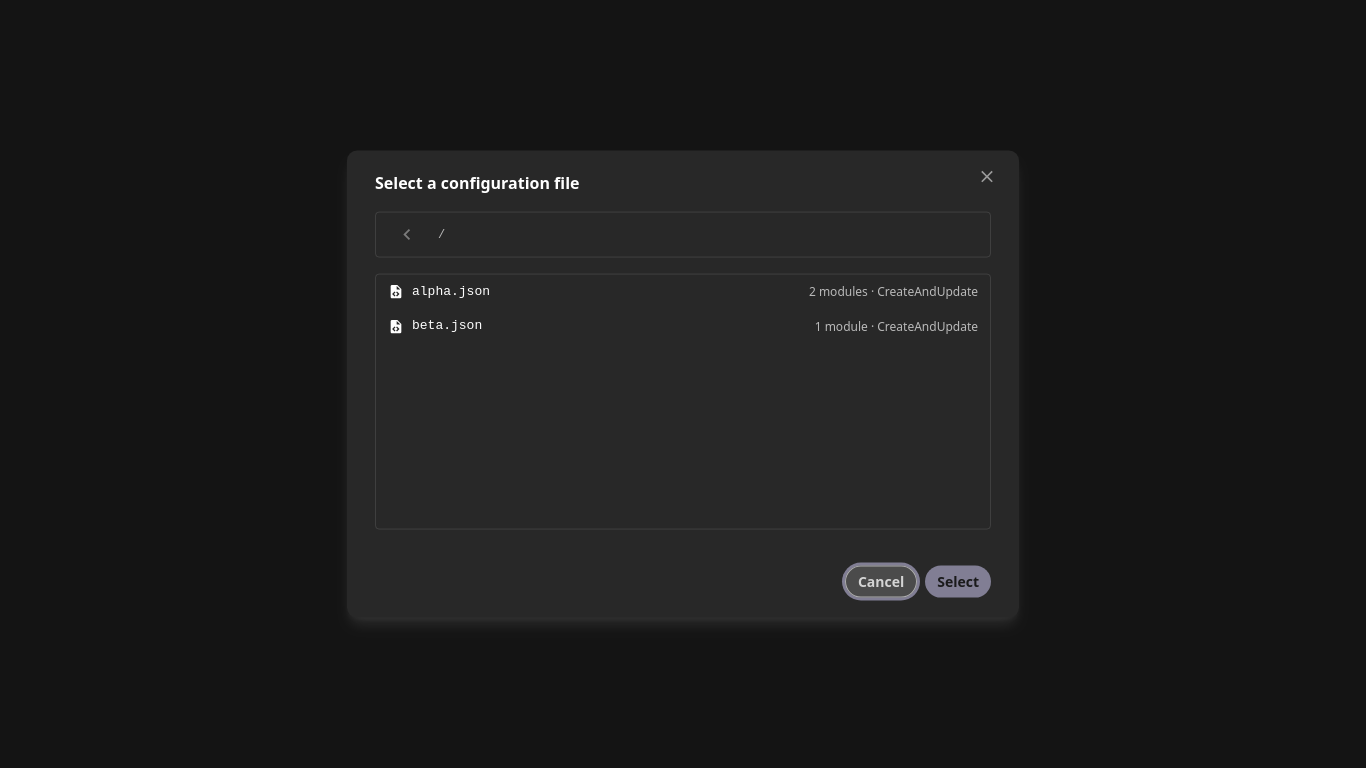
Test case: OpenProjectWizard › preserves user-edited project name when adding another layer
Step 1. Click the text "alpha.json" → coordinates (451, 291), box x1=412 y1=283 x2=490 y2=298
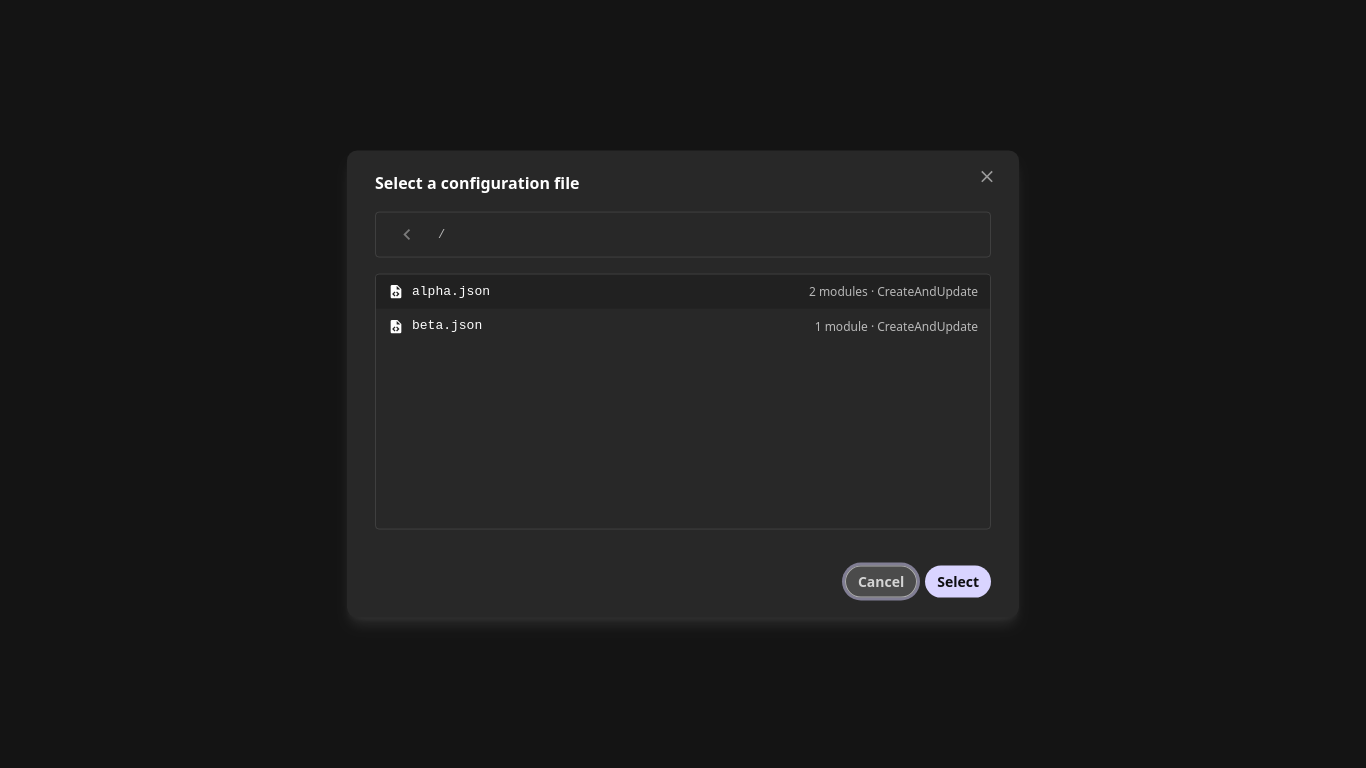
Step 2. Click the button "Select" → coordinates (958, 581), box x1=925 y1=565 x2=991 y2=597
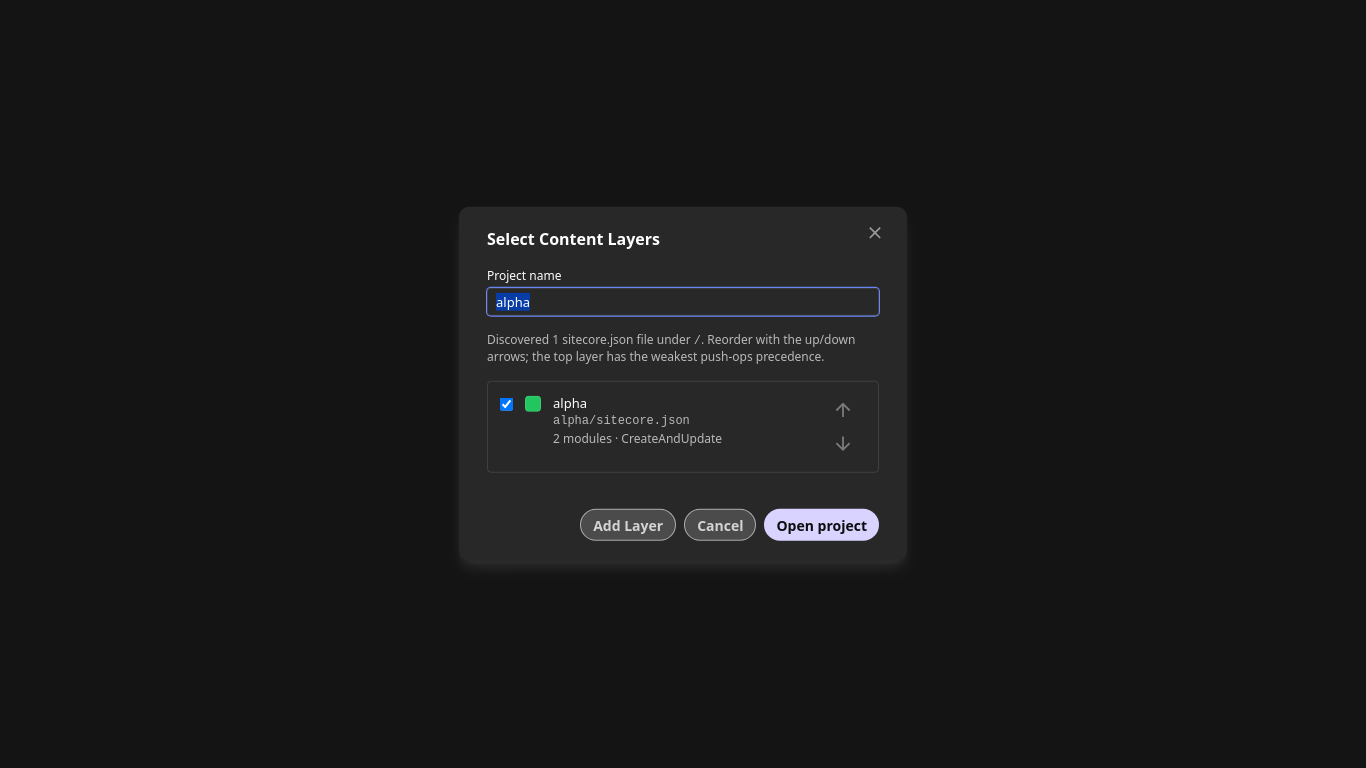
Expected: the field labelled "Project name" is shown
Step 3. Replace the text in the field labelled "Project name" with "my-project" → coordinates (683, 302), box x1=487 y1=288 x2=879 y2=316
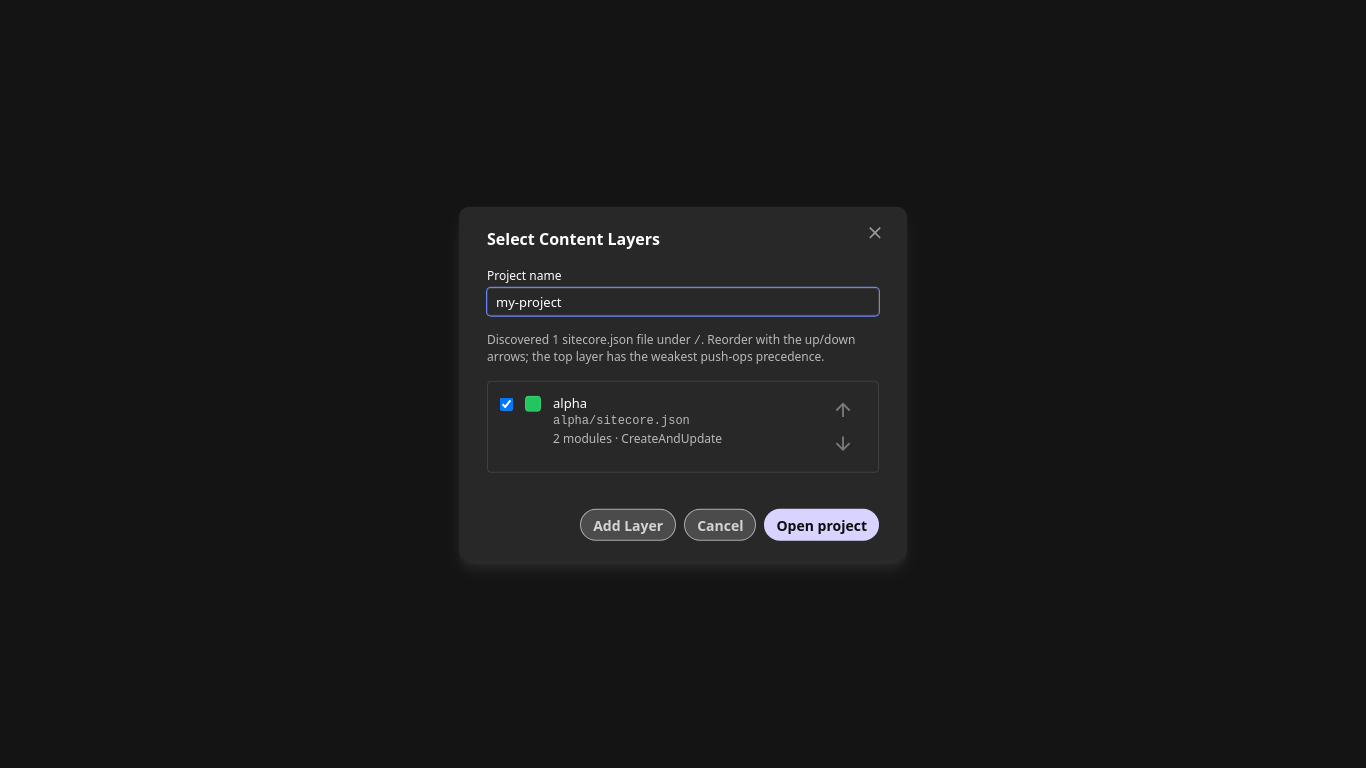
Step 4. Click the button "Add Layer" → coordinates (628, 525), box x1=580 y1=509 x2=676 y2=541
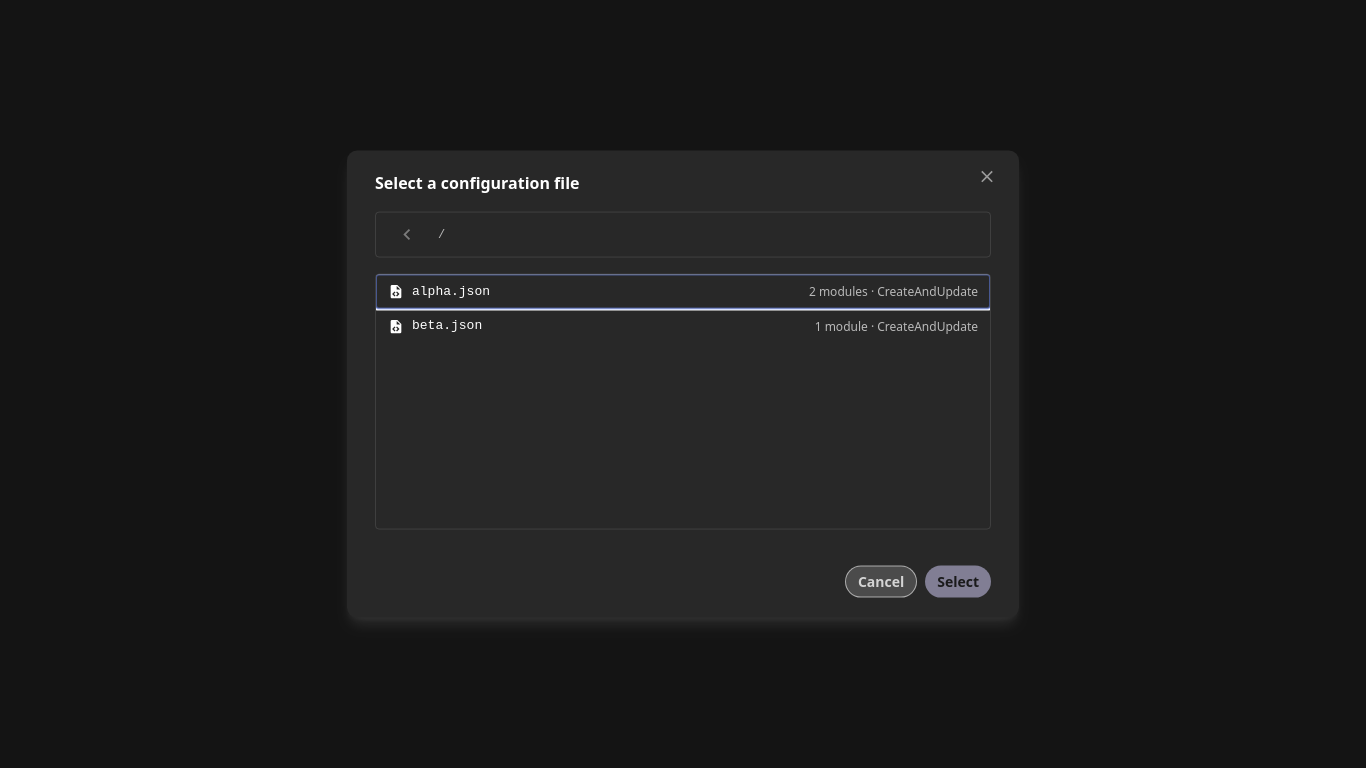
Expected: the text "/" is shown, x1=438 y1=226 x2=445 y2=242
Expected: the text "beta.json" is shown
Step 5. Click the text "beta.json" → coordinates (447, 326), box x1=412 y1=318 x2=482 y2=333
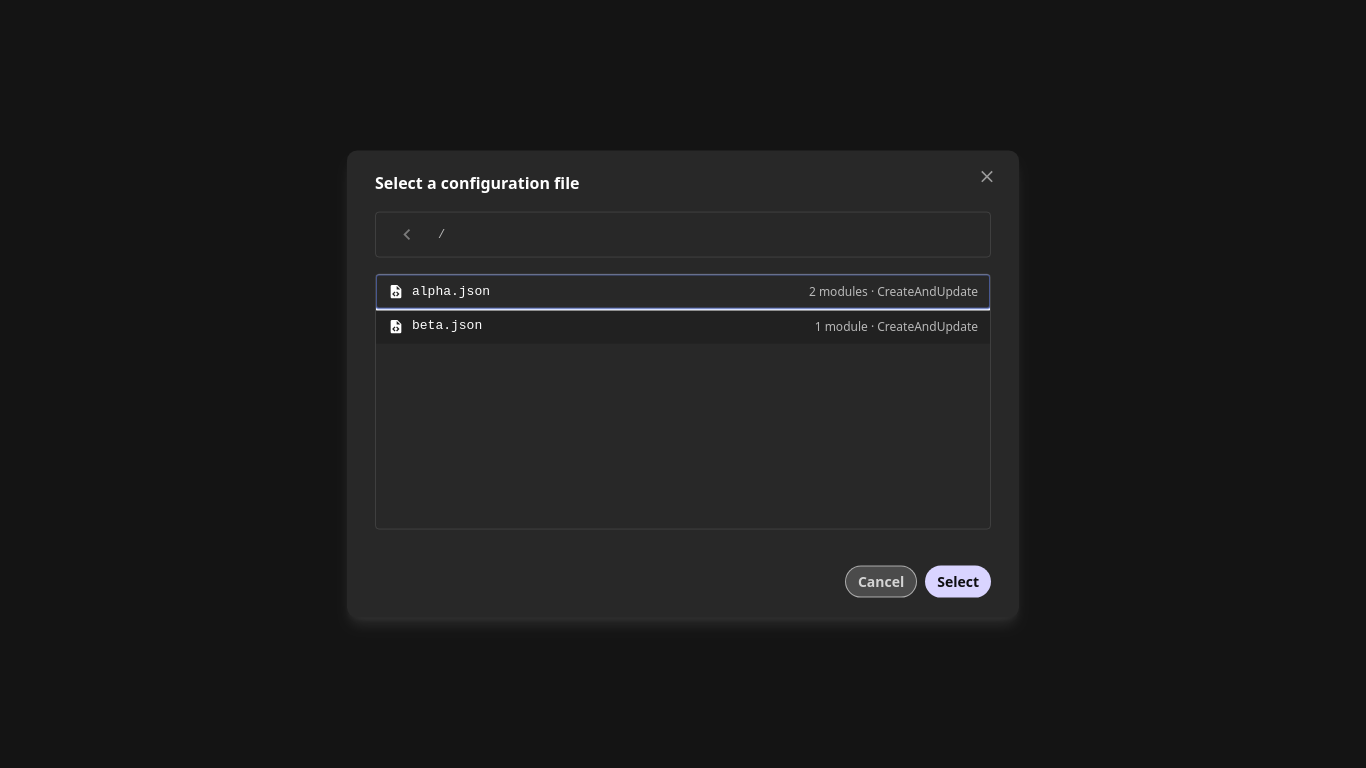
Step 6. Click the button "Select" → coordinates (958, 581), box x1=925 y1=565 x2=991 y2=597
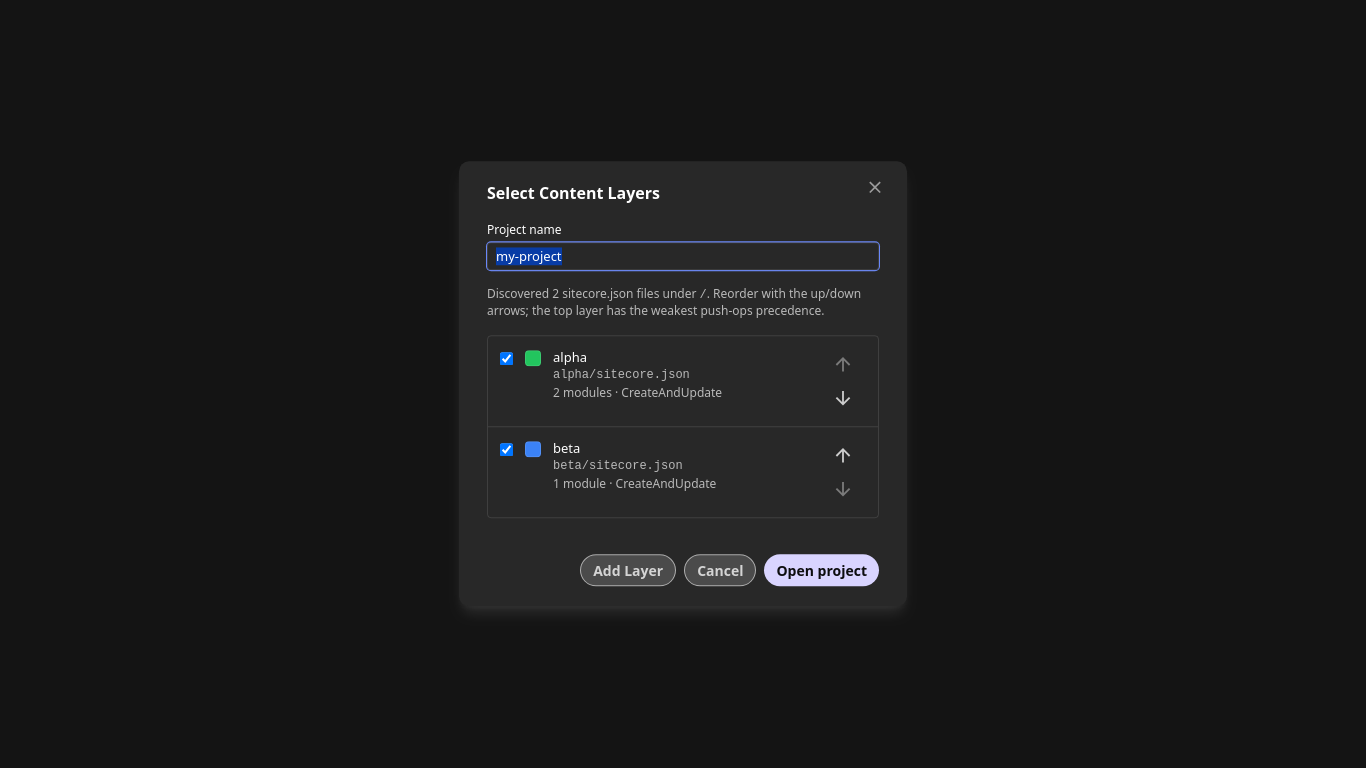
Expected: the field labelled "Project name" holds "my-project", x1=487 y1=242 x2=879 y2=271
